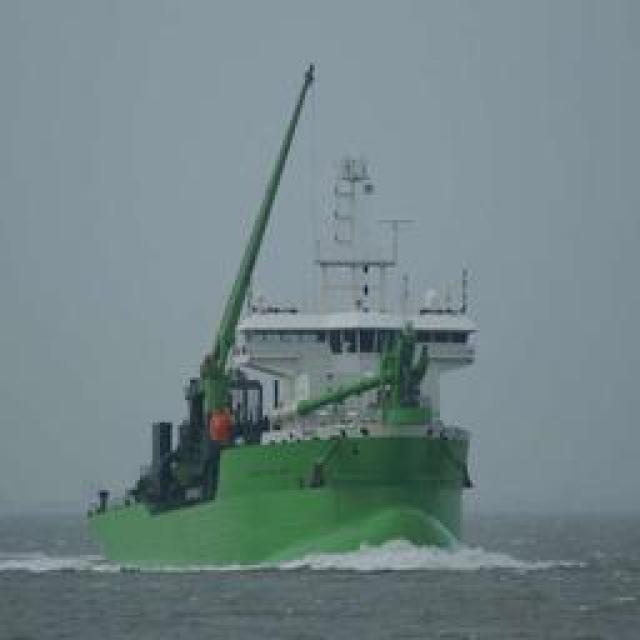Ship: (74, 50, 485, 574)
